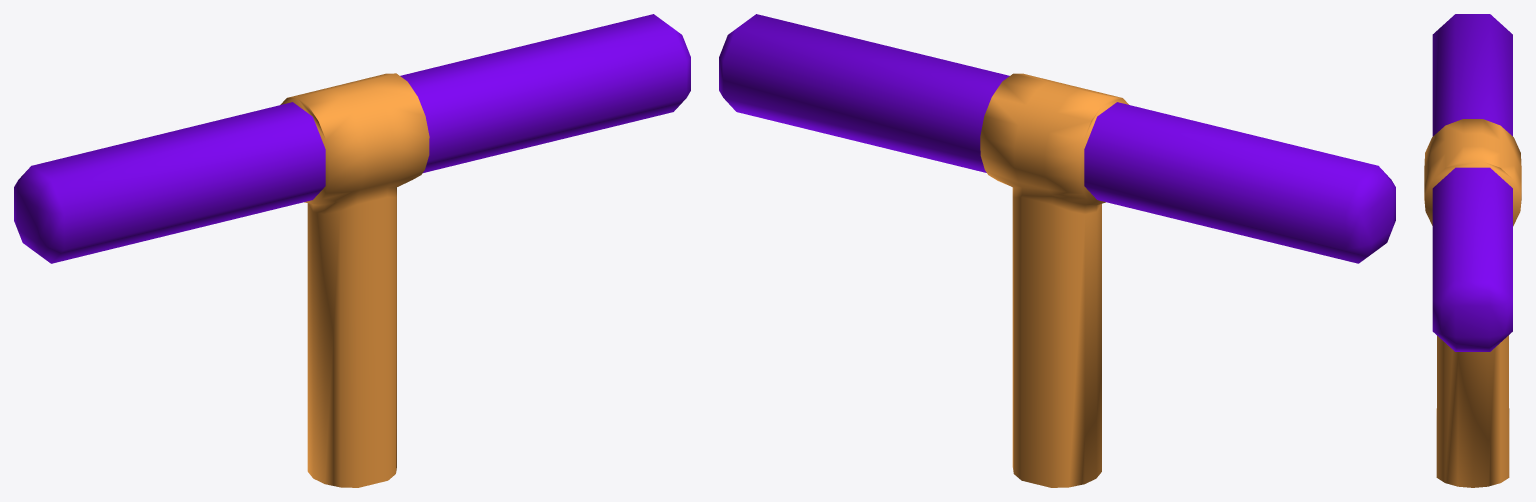
Rendered from Rotating_Trap.fbx.
3 views of the same model, side by side, from view 1: azimuth 30°, elevation 25°; view 2: azimuth 150°, elevation 25°; view 3: azimuth 270°, elevation 25° (orthographic). The views are drawn at different scales.
Visible parts, largest first — view 1: rotating purple; view 2: rotating purple; view 3: rotating purple.
Boxes of the visible parts, x1=… form: rotating purple: x1=14, y1=14, x2=690, y2=487; rotating purple: x1=719, y1=14, x2=1395, y2=487; rotating purple: x1=1424, y1=14, x2=1521, y2=487.
Bounding box in the file's own units: 302 × 169 × 44.86.
